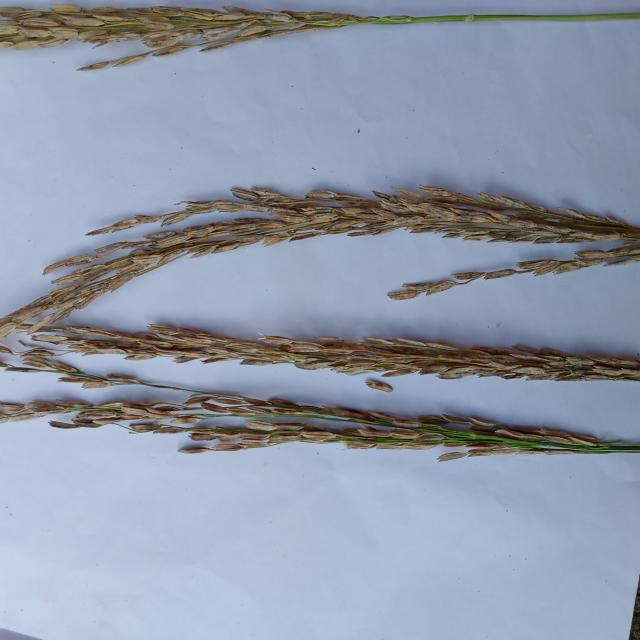Neck_Blast: (0, 188, 640, 359), (0, 346, 605, 446), (26, 324, 640, 383), (0, 5, 351, 72), (0, 400, 340, 460)
